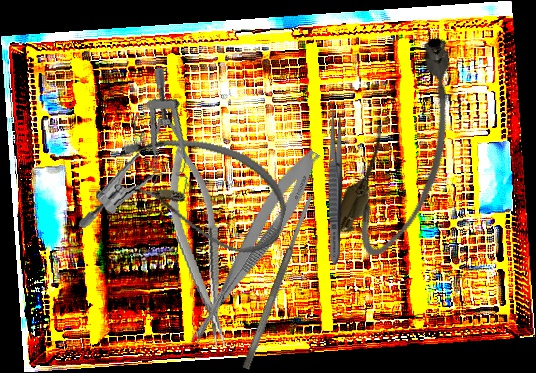Cannula: (325, 27, 490, 267), (103, 121, 298, 263)
Dressing Forceps: (327, 107, 343, 266)
Micro Scissor: (179, 142, 327, 359)
Needle Holder: (159, 136, 237, 352)
Spatula Surgical: (240, 193, 317, 371)
Speculum: (76, 103, 168, 238), (129, 66, 208, 204)
